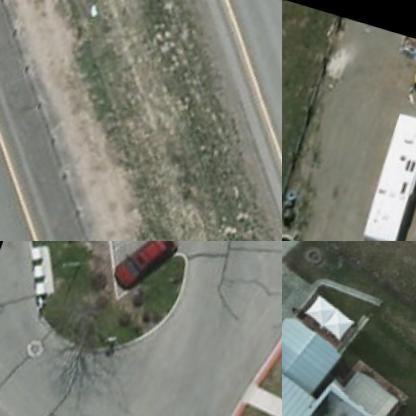camping car: (360, 105, 415, 240)
car: (105, 241, 185, 295)
